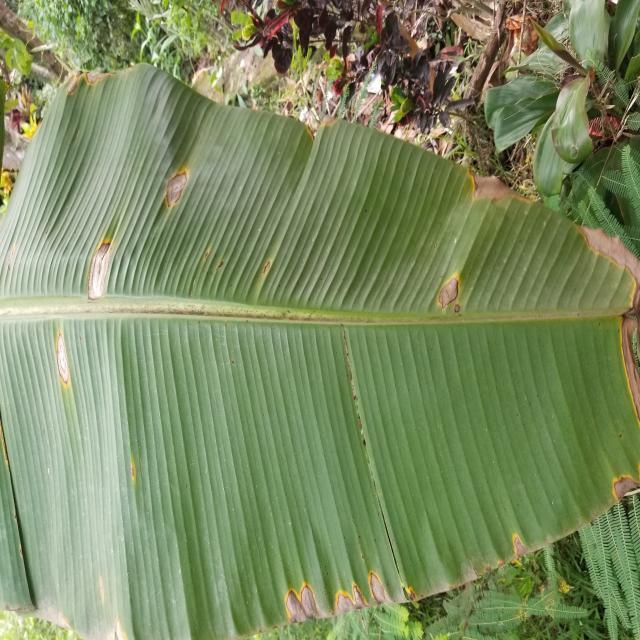Early_rust: (415, 138, 640, 366), (229, 529, 552, 621), (34, 215, 133, 400), (265, 93, 381, 181), (144, 145, 239, 243), (33, 28, 147, 106), (580, 301, 640, 420), (588, 432, 640, 511), (233, 239, 289, 302)
